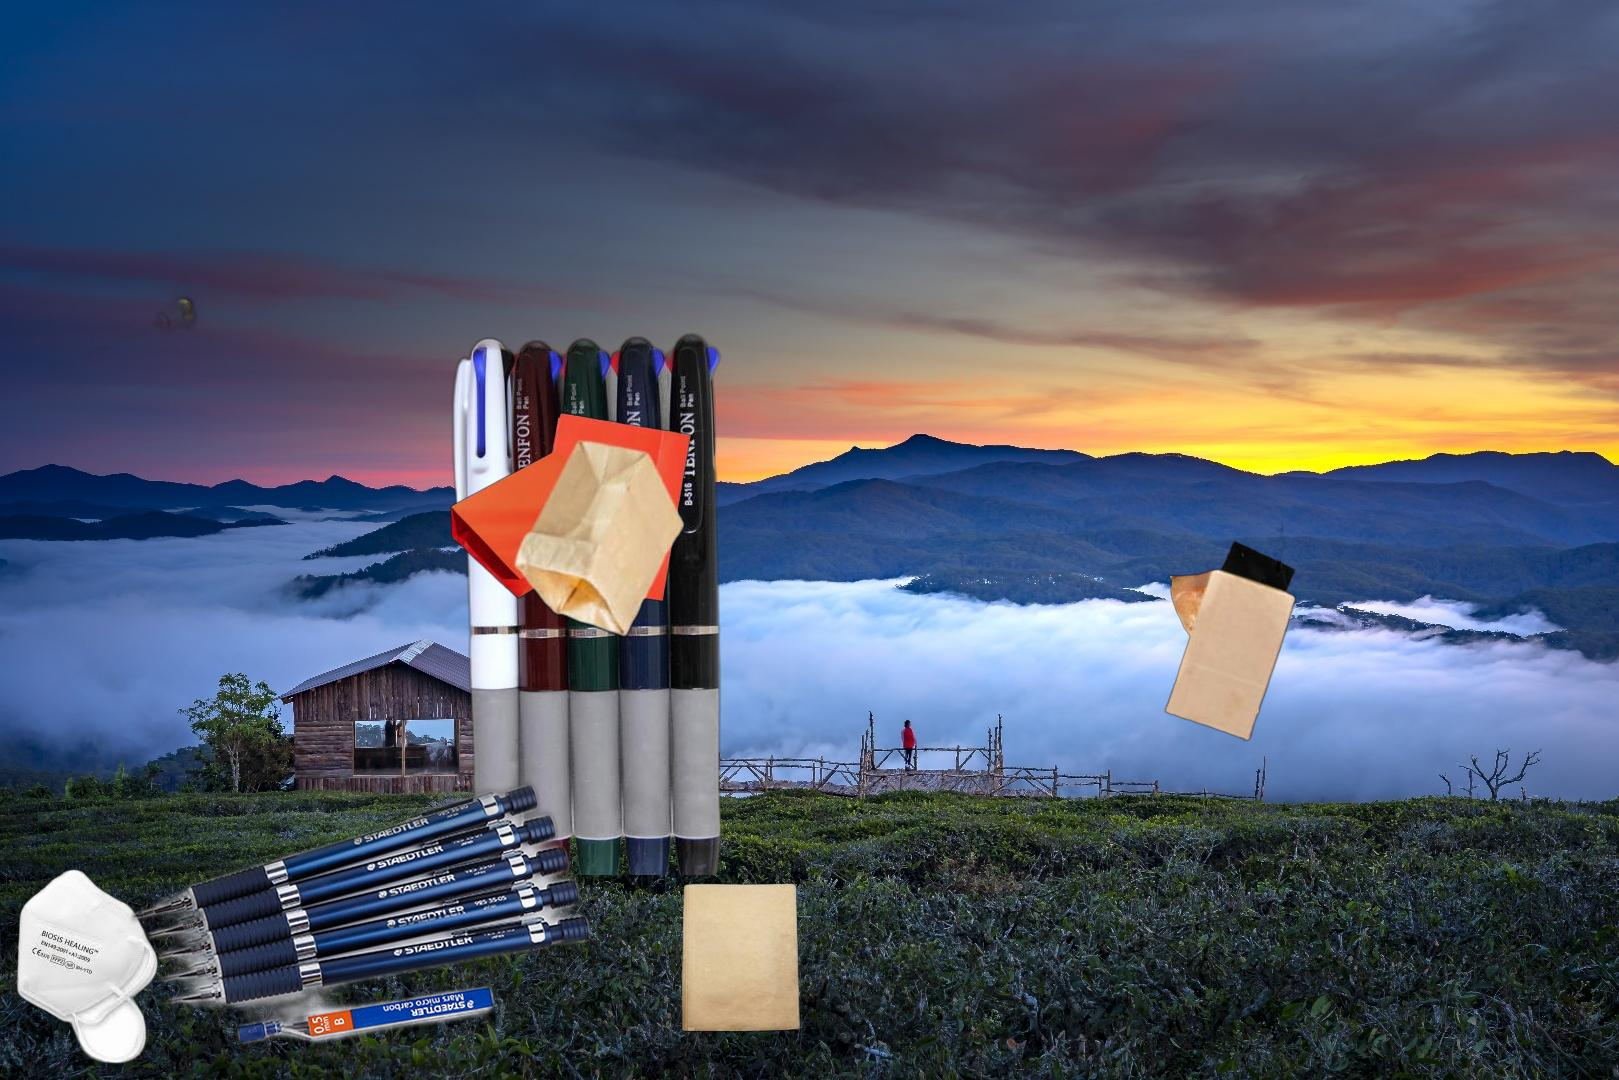paper-bag: (447, 411, 694, 640), (1162, 521, 1299, 744)
penholder: (7, 70, 797, 1080), (447, 330, 725, 875)
trash: (14, 867, 160, 1067)
trashbox-cardboard: (679, 881, 803, 1035)
